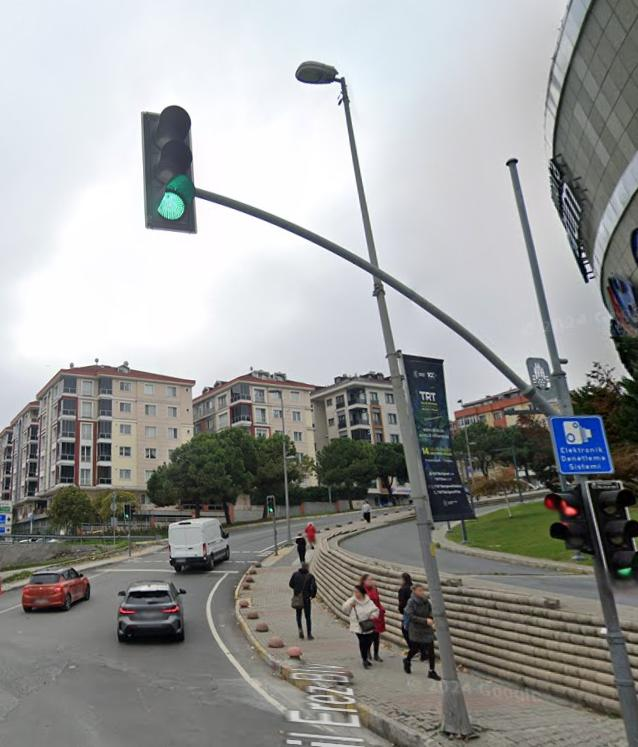greenlight: (144, 105, 194, 227)
